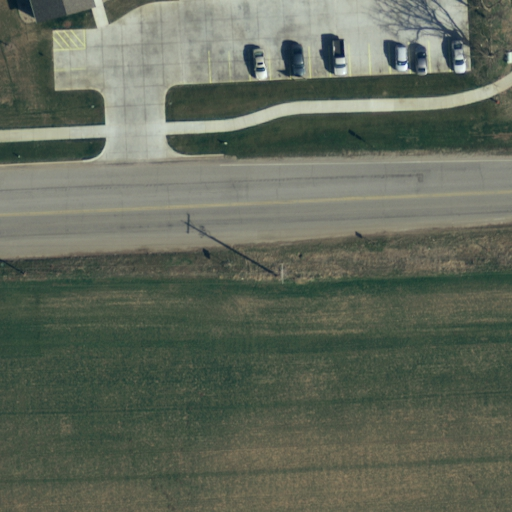DT: (262, 259, 291, 288)
